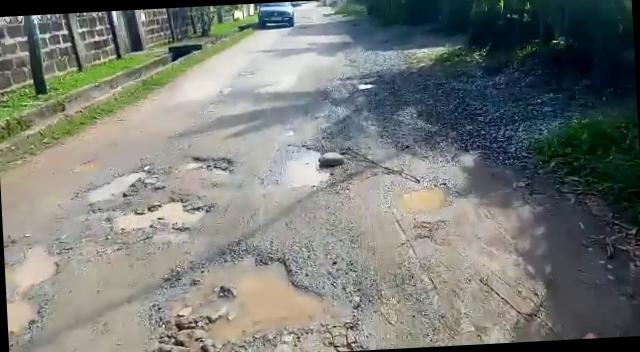pothole: (149, 249, 342, 341), (110, 195, 208, 234), (76, 162, 152, 206), (387, 176, 453, 220), (264, 142, 324, 188), (10, 243, 60, 292), (6, 296, 43, 336), (180, 152, 238, 175)
